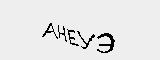А: (41, 22, 56, 39)
Е: (67, 29, 81, 50)
Н: (56, 23, 66, 44)
У: (78, 32, 94, 52)
Э: (97, 32, 120, 54)
